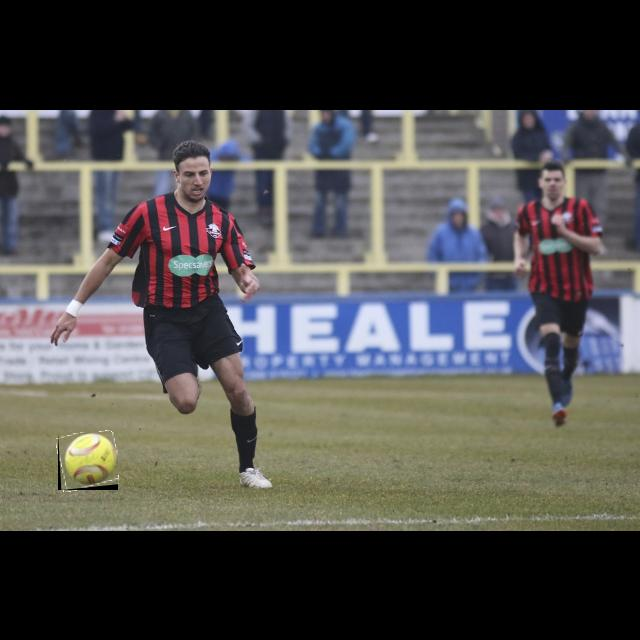Football: (58, 432, 118, 490)
